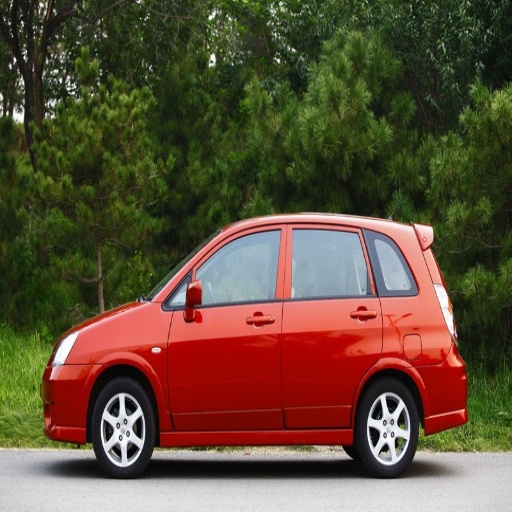back_left_door: (284, 224, 382, 426)
front_left_door: (169, 224, 286, 429)
